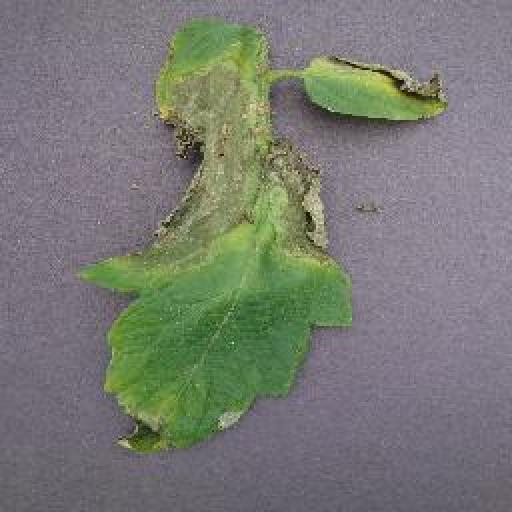disease_tomato: (76, 20, 352, 465), (305, 52, 452, 127)
